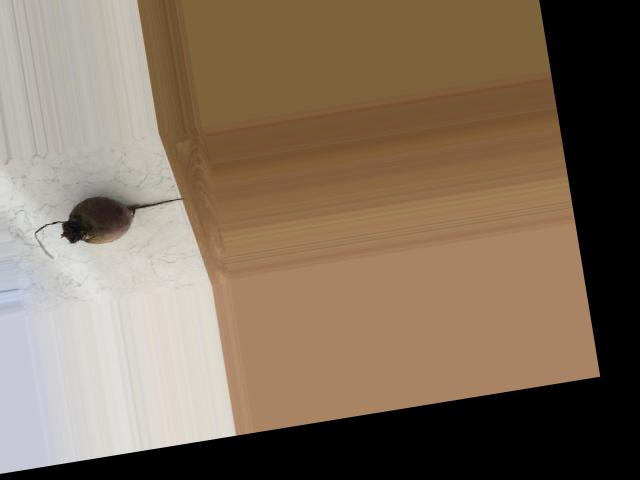beet: (31, 182, 191, 260)
